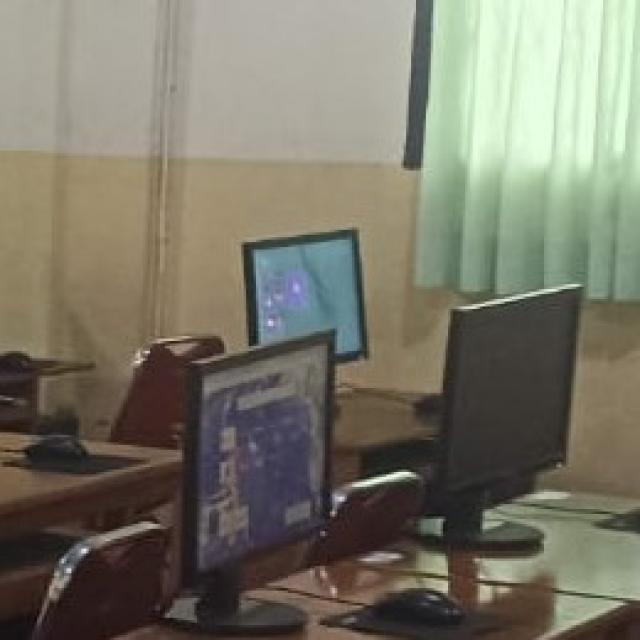offscreen: (441, 285, 581, 491)
onscreen: (182, 333, 332, 582), (244, 232, 368, 360)
